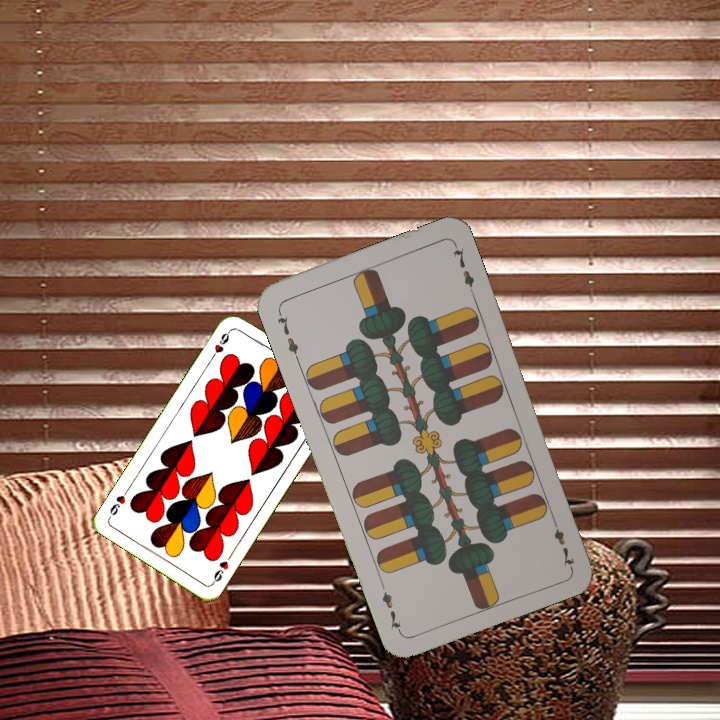E7: (273, 305, 302, 363), (548, 512, 577, 570)
H9: (206, 326, 234, 362), (208, 550, 234, 587)
